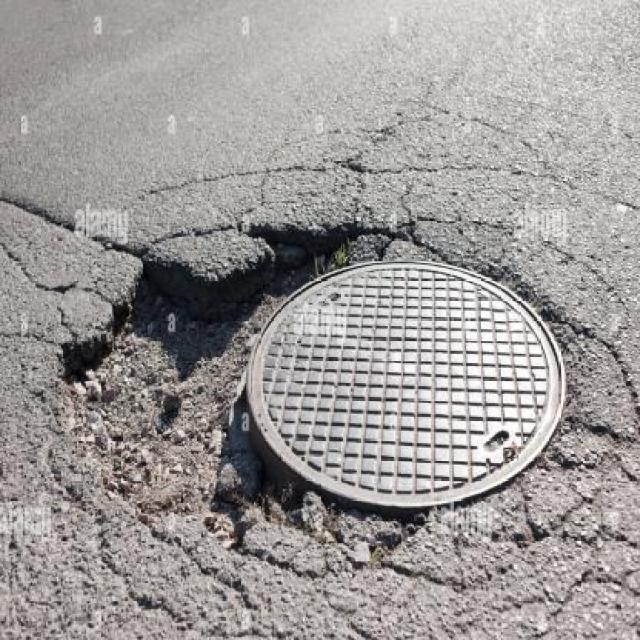Manhole: (243, 257, 574, 511)
Pothole: (55, 226, 212, 438), (175, 210, 396, 264), (184, 481, 313, 545), (166, 246, 268, 323)
